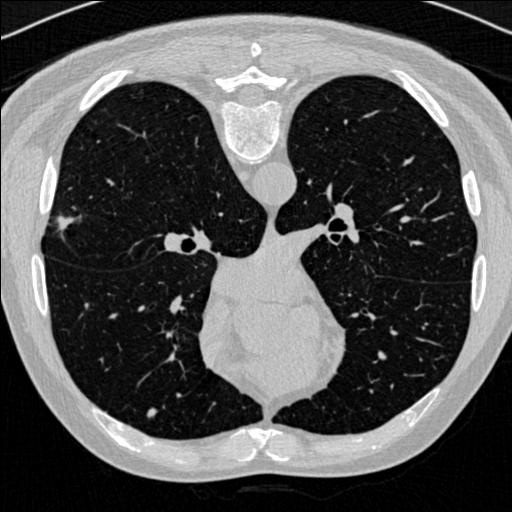nodule: (144, 407, 157, 420)
